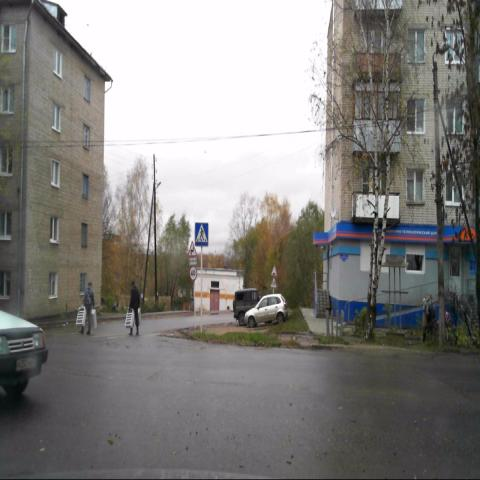1_12: (188, 241, 198, 258)
1_17: (270, 264, 278, 277)
1_23: (270, 277, 277, 289)
3_24: (189, 264, 198, 281)
5_19_1: (195, 221, 209, 247)
